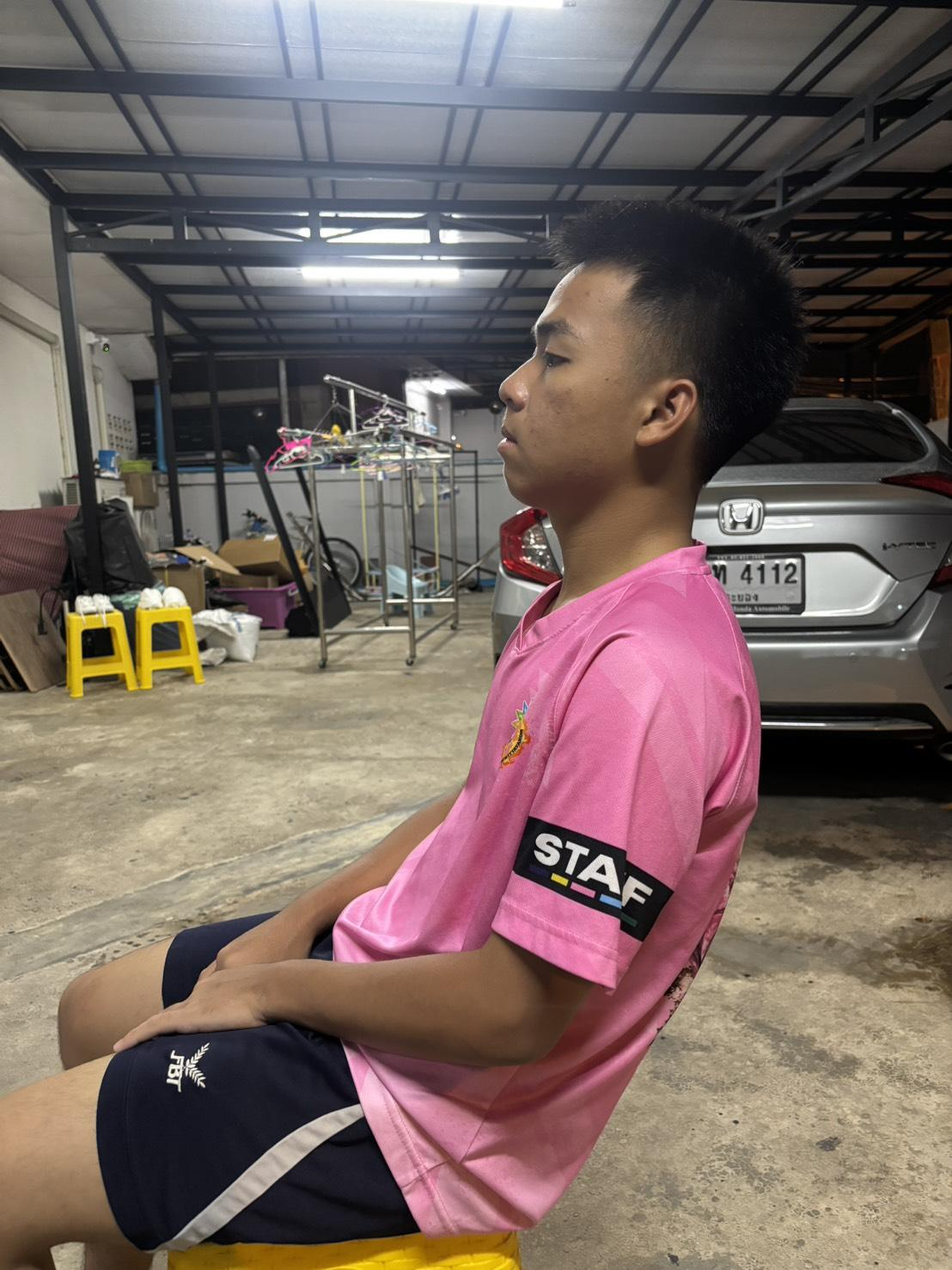BadPosture: (60, 205, 804, 1269)
